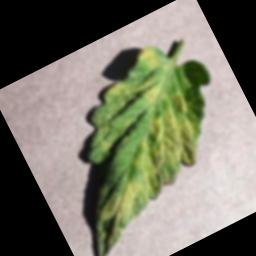Leaf_Mold: (21, 26, 256, 256)
